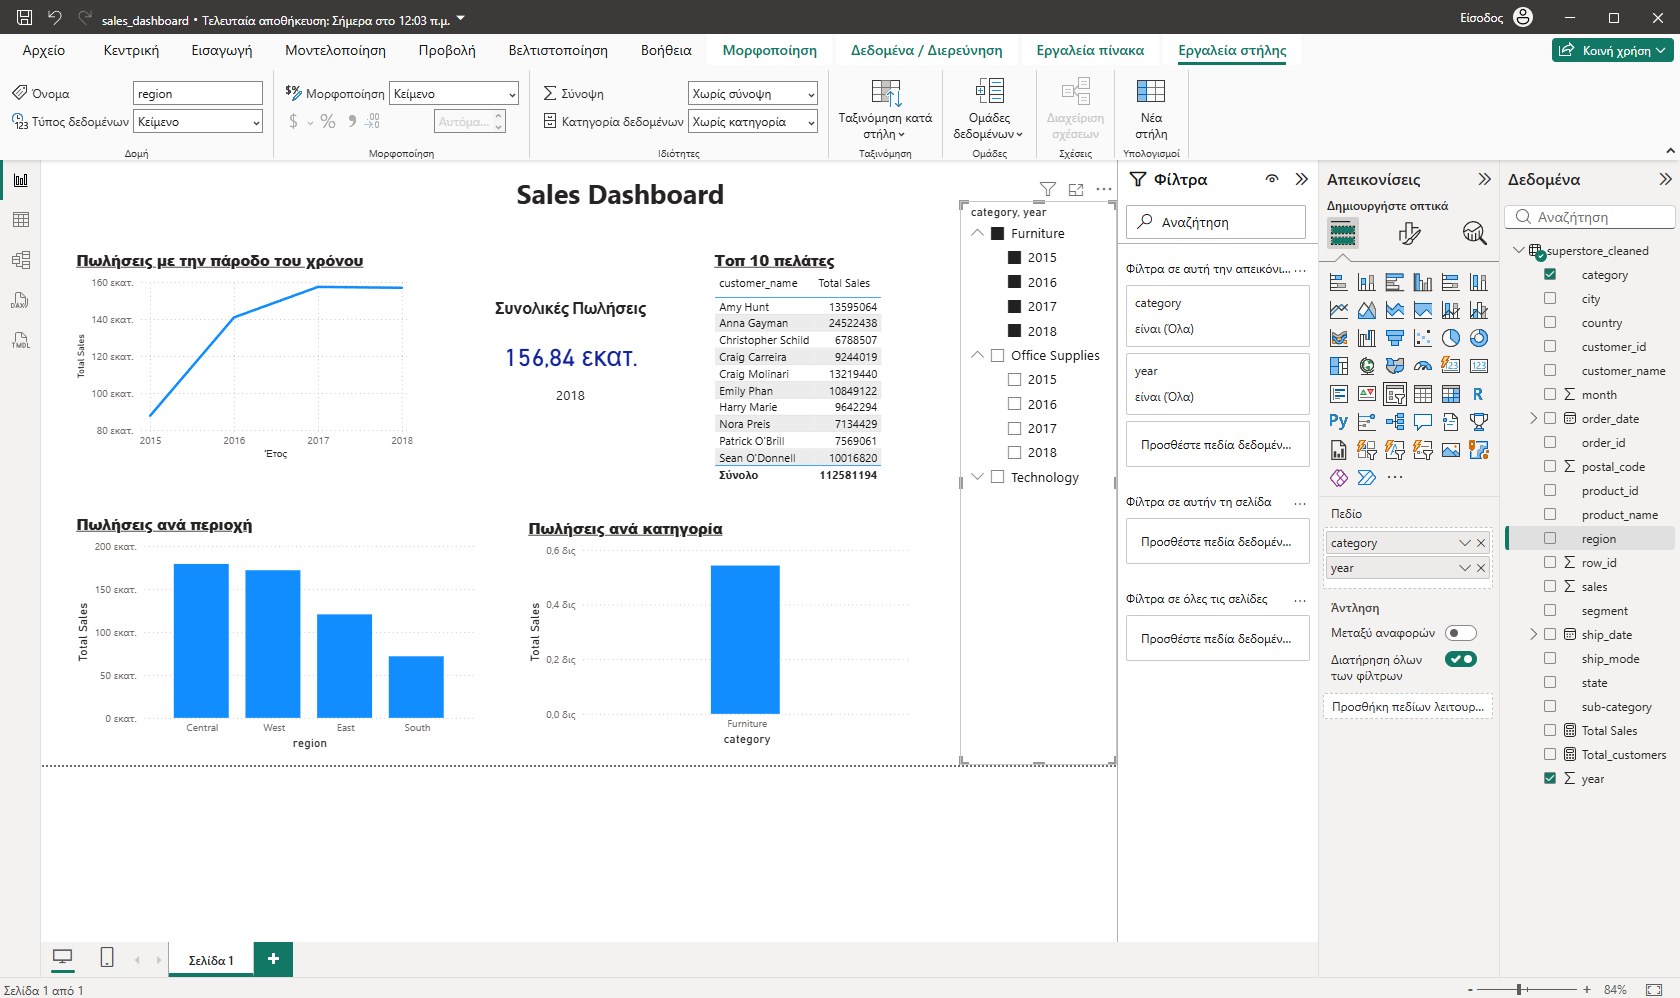

What the dashboard file says about the page in this screenshot:
{"tool":"powerbi","page":{"name":"Σελίδα 1","canvas":[1280,720],"ordinal":0},"visuals":[{"type":"lineChart","title":"Πωλήσεις με την πάροδο του χρόνου","fields":{"Category":["superstore_cleaned.order_date.Παραλλαγή.Ιεραρχία ημερομηνιών.Έτος","superstore_cleaned.order_date.Παραλλαγή.Ιεραρχία ημερομηνιών.Τρίμηνο","superstore_cleaned.order_date.Παραλλαγή.Ιεραρχία ημερομηνιών.Μήνας","superstore_cleaned.order_date.Παραλλαγή.Ιεραρχία ημερομηνιών.Ημέρα"],"Y":["superstore_cleaned.Total Sales"]},"box":[36.9,107.1,410.4,253.4],"z":1000},{"type":"columnChart","title":"Πωλήσεις ανά κατηγορία","fields":{"Category":["superstore_cleaned.category"],"Y":["superstore_cleaned.Total Sales"]},"box":[574.6,425.9,465.1,276],"z":2000},{"type":"columnChart","title":"Πωλήσεις ανά περιοχή","fields":{"Category":["superstore_cleaned.region"],"Y":["superstore_cleaned.Total Sales"]},"box":[36.9,421.1,484.2,285.5],"z":3000},{"type":"tableEx","title":"Τοπ 10 πελάτες","fields":{"Values":["superstore_cleaned.customer_name","superstore_cleaned.Total Sales"]},"box":[795.8,107.1,226,310.5],"z":4000},{"type":"kpi","title":"Συνολικές Πωλήσεις","fields":{"Indicator":["superstore_cleaned.Total Sales"],"Goal":["Sum(superstore_cleaned.year)","Sum(superstore_cleaned.month)"],"TrendLine":["superstore_cleaned.year"]},"box":[484.2,166.5,291.4,134.4],"z":5000},{"type":"textbox","box":[484.2,11.9,410.4,72.6],"z":6000},{"type":"slicer","fields":{"Values":["superstore_cleaned.year"]},"box":[1093.2,48.8,186.8,670.9],"z":6001}]}

Visuals, with their boxes on the page's 1280x720 design canvas (x1, y1, x2, y2). These are canvas units, not pixel positions in the 1680x998 screenshot, which may show the page scaled, cropped or inside an application window:
"Πωλήσεις με την πάροδο του χρόνου" lineChart: detection(37, 107, 447, 360)
"Πωλήσεις ανά κατηγορία" columnChart: detection(575, 426, 1040, 702)
"Πωλήσεις ανά περιοχή" columnChart: detection(37, 421, 521, 707)
"Τοπ 10 πελάτες" tableEx: detection(796, 107, 1022, 418)
"Συνολικές Πωλήσεις" kpi: detection(484, 166, 776, 301)
textbox: detection(484, 12, 895, 84)
slicer - superstore_cleaned.year: detection(1093, 49, 1280, 720)
